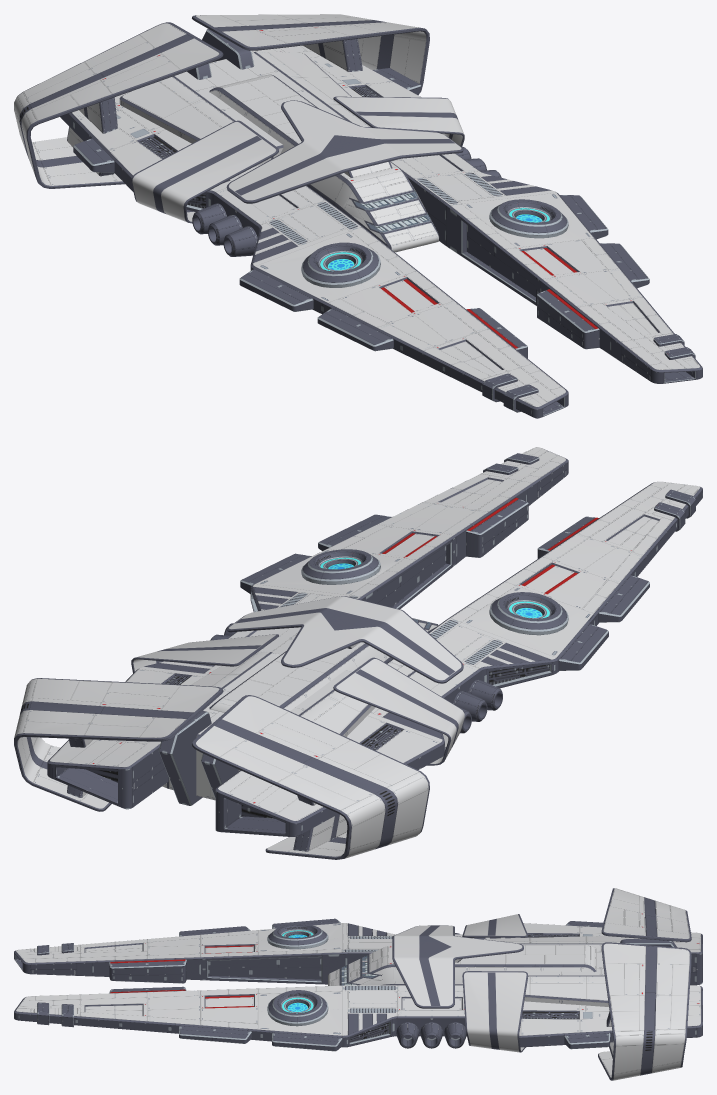
File: Spaceship_Aquila_Mark_1.FBX
3 views of the same model, one above another, from view 1: azimuth 30°, elevation 25°; view 2: azimuth 150°, elevation 25°; view 3: azimuth 270°, elevation 25° (orthographic). The views are drawn at different scales.
Visible parts, largest first — view 1: Right_Part_01, Left_Part_01, Protection_Right_02, Body_Rear_01, Protection_Up_01, Center_Body_01, Protection_Left_02, Protection_Right_01, Module_Side_01a, Protection_Left_01, Module_Side_01b, Module_Side_04a (+3 smaller); view 2: Right_Part_01, Left_Part_01, Protection_Right_02, Protection_Left_02, Protection_Up_01, Body_Rear_01, Protection_Right_01, Center_Body_01, Protection_Left_01, Module_Side_01a, Module_Side_03b, Module_Side_01b (+3 smaller); view 3: Left_Part_01, Right_Part_01, Protection_Left_02, Protection_Up_01, Center_Body_01, Protection_Left_01, Body_Rear_01, Protection_Right_02, Module_Side_01b, Module_Side_03a, Module_Side_04b, Protection_Right_01 (+3 smaller).
Part boxes in pixels (box(x1,y1,x2,y2)): Right_Part_01: box(60, 92, 568, 418); Left_Part_01: box(251, 45, 702, 383); Protection_Right_02: box(14, 22, 223, 188); Body_Rear_01: box(119, 29, 371, 167); Protection_Up_01: box(226, 100, 463, 203); Center_Body_01: box(209, 74, 439, 252); Protection_Left_02: box(192, 14, 429, 95); Protection_Right_01: box(131, 120, 278, 223); Module_Side_01a: box(73, 138, 393, 351); Protection_Left_01: box(333, 96, 464, 146); Module_Side_01b: box(372, 68, 649, 288); Module_Side_04a: box(192, 203, 257, 256); Right_Part_01: box(215, 481, 702, 836); Left_Part_01: box(47, 447, 568, 809); Protection_Right_02: box(192, 695, 429, 859); Protection_Left_02: box(14, 678, 223, 811); Protection_Up_01: box(226, 596, 463, 683); Body_Rear_01: box(158, 652, 375, 805); Protection_Right_01: box(333, 657, 464, 765); Center_Body_01: box(209, 618, 438, 712); Protection_Left_01: box(131, 634, 278, 673); Module_Side_01a: box(407, 575, 649, 765); Module_Side_03b: box(466, 497, 528, 557); Module_Side_01b: box(240, 514, 391, 593); Left_Part_01: box(14, 985, 702, 1047); Right_Part_01: box(14, 923, 702, 985); Protection_Left_02: box(598, 942, 691, 1080); Protection_Up_01: box(392, 925, 523, 1008); Center_Body_01: box(328, 945, 596, 985); Protection_Left_01: box(462, 971, 528, 1052); Body_Rear_01: box(484, 936, 676, 1006); Protection_Right_02: box(601, 888, 691, 942); Module_Side_01b: box(179, 1026, 610, 1051); Module_Side_03a: box(109, 959, 186, 983); Module_Side_04b: box(396, 1022, 466, 1048); Protection_Right_01: box(462, 914, 528, 937).
Bounding box in the file's own units: 462 × 126 × 894.
